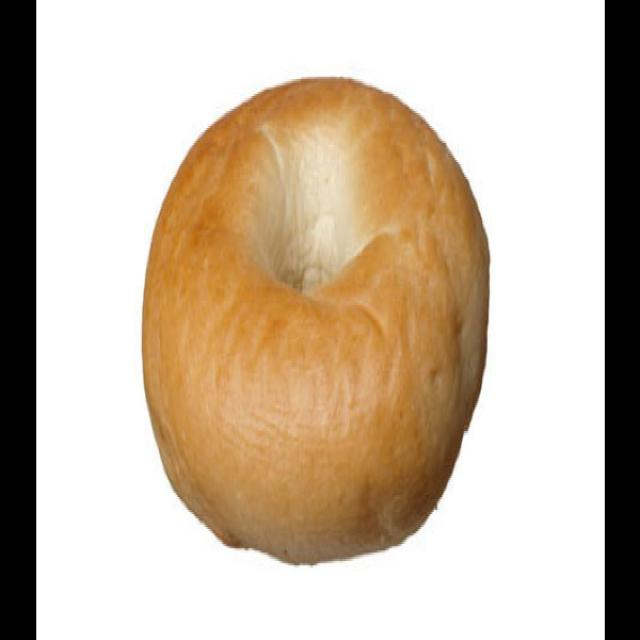Bagel: (144, 78, 489, 562)
